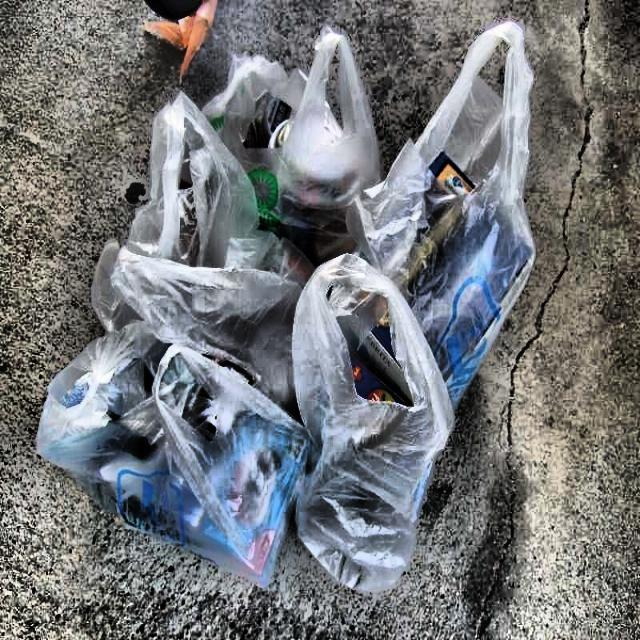Plastic: (34, 332, 313, 597), (372, 14, 550, 408), (94, 89, 320, 375), (290, 242, 454, 612), (229, 40, 397, 281)
